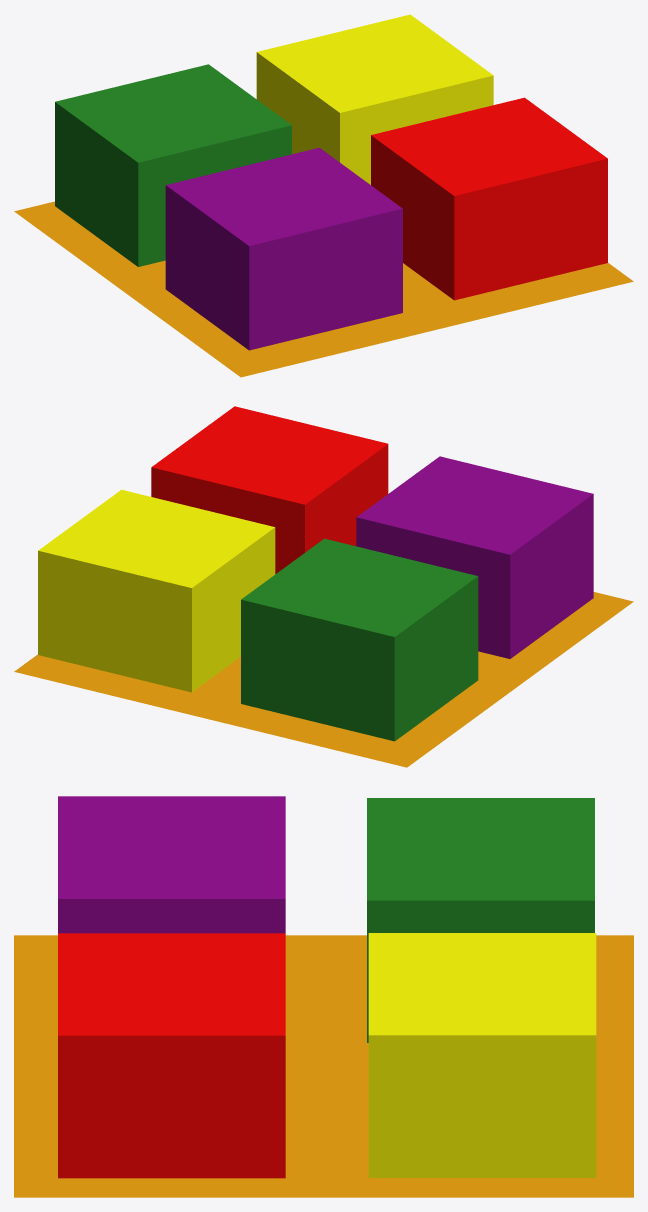
Rendered from Blocks02.fbx.
3 renders of one model, top to bottom at view 1: azimuth 30°, elevation 25°; view 2: azimuth 150°, elevation 25°; view 3: azimuth 270°, elevation 25°, orthographic. The views are drawn at different scales.
Visible parts, largest first — view 1: Cube, Cube.001, Cube.003, Cube.002, Grid; view 2: Cube.003, Cube.002, Cube, Cube.001, Grid; view 3: Cube.002, Cube.001, Grid, Cube, Cube.003.
Part boxes in pixels (left/top/right/bottom): Cube: left=165, top=147, right=402, bottom=350; Cube.001: left=371, top=97, right=607, bottom=300; Cube.003: left=55, top=64, right=291, bottom=266; Cube.002: left=256, top=14, right=493, bottom=184; Grid: left=14, top=201, right=633, bottom=377; Cube.003: left=241, top=538, right=478, bottom=741; Cube.002: left=38, top=489, right=275, bottom=692; Cube: left=356, top=456, right=593, bottom=658; Cube.001: left=151, top=406, right=388, bottom=573; Grid: left=14, top=592, right=633, bottom=767; Cube.002: left=368, top=933, right=596, bottom=1177; Cube.001: left=58, top=933, right=285, bottom=1178; Grid: left=14, top=935, right=633, bottom=1197; Cube: left=58, top=796, right=285, bottom=933; Cube.003: left=367, top=798, right=594, bottom=1042.
Bounding box in the file's own units: 200 × 55.24 × 200.
